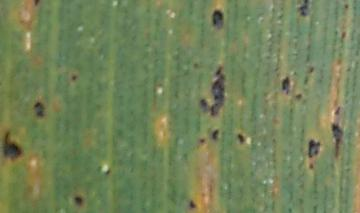tarspot: (207, 63, 228, 122), (1, 130, 28, 165), (325, 122, 346, 159), (303, 137, 323, 160), (30, 98, 48, 123), (210, 7, 226, 34), (295, 1, 314, 20), (279, 74, 293, 97), (69, 193, 87, 210), (197, 96, 209, 115), (235, 132, 249, 148), (209, 125, 221, 143), (183, 198, 199, 210), (293, 92, 307, 103), (68, 72, 81, 83), (299, 74, 310, 87), (332, 105, 343, 116), (306, 63, 317, 74), (103, 166, 112, 178), (29, 1, 43, 8), (339, 31, 348, 41), (307, 160, 315, 171), (341, 3, 352, 11), (198, 136, 206, 146)
